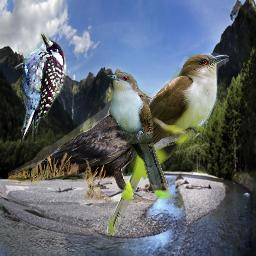Crow: (8, 88, 163, 204)
Cuckoo: (105, 52, 229, 236), (106, 72, 172, 200)
Woodpecker: (3, 28, 73, 149)
